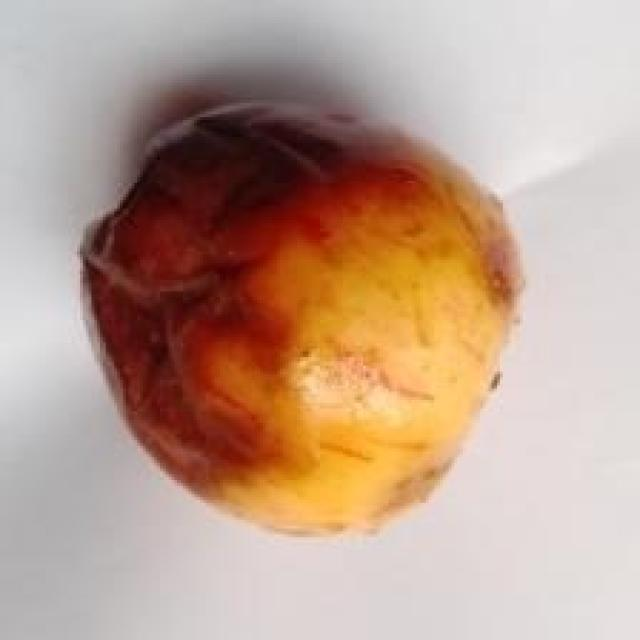rotten apple: (28, 72, 550, 562)
